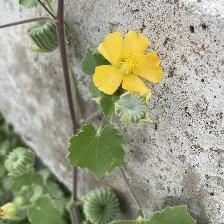indian mallow: (92, 30, 165, 101)
